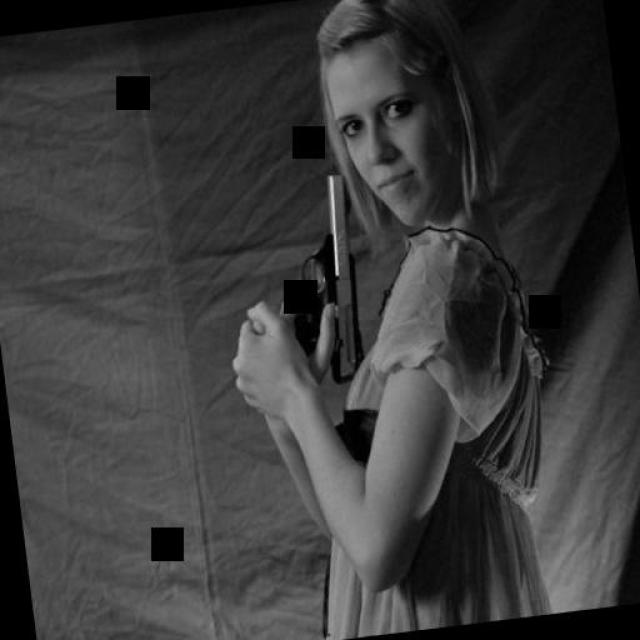gun: (260, 162, 374, 392)
